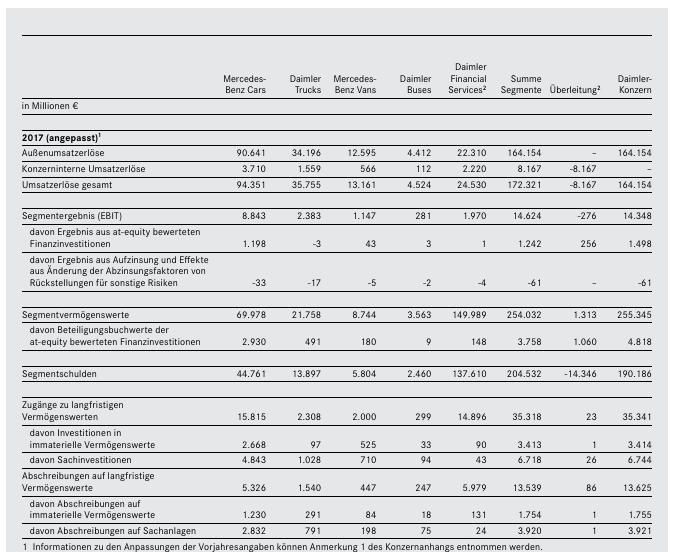table: (0, 0, 681, 552)
